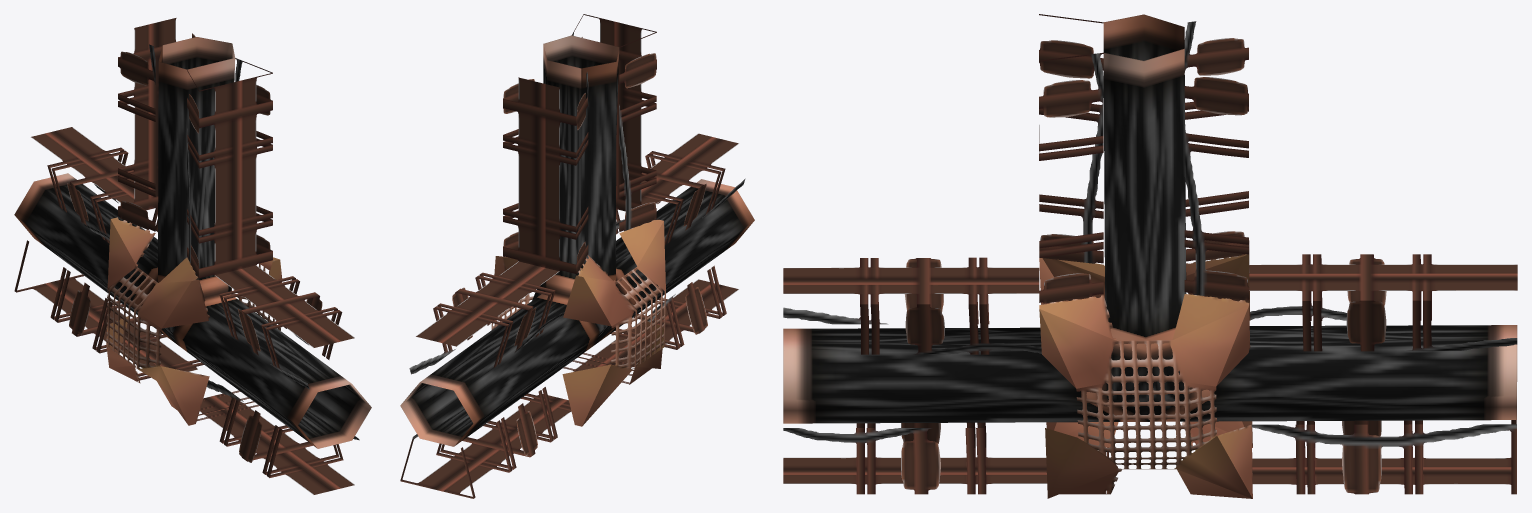
The model's file is cables_angle3.fbx.
3 renders of one model, left to right at view 1: azimuth 30°, elevation 25°; view 2: azimuth 150°, elevation 25°; view 3: azimuth 270°, elevation 25°, orthographic. The views are drawn at different scales.
Visible parts, largest first — view 1: cables_b_angle3, cables_angle3; view 2: cables_b_angle3, cables_angle3; view 3: cables_b_angle3, cables_angle3.
Part boxes in pixels (box(x1,y1,x2,y2)): cables_b_angle3: box(14, 18, 359, 494); cables_angle3: box(14, 37, 371, 448); cables_b_angle3: box(400, 14, 745, 498); cables_angle3: box(400, 35, 754, 446); cables_b_angle3: box(783, 14, 1517, 498); cables_angle3: box(783, 14, 1517, 423).
Bounding box in the file's own units: 1.02 × 2.28 × 3.5.
